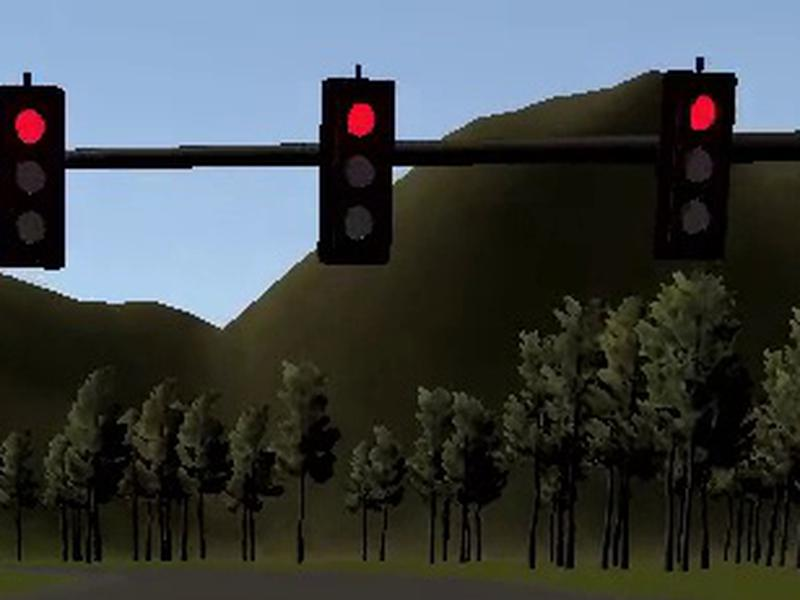Red: (653, 72, 737, 258), (320, 77, 394, 265), (1, 85, 64, 271)
